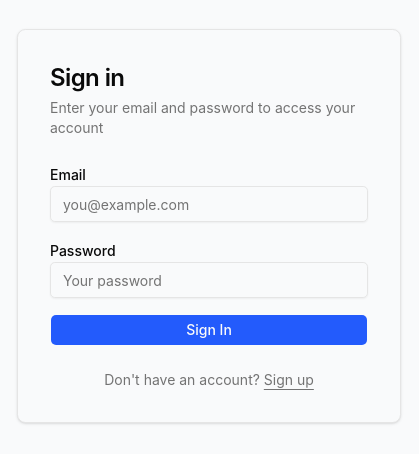
it: LoginPage › shows field-level email error on 400 with email validation error
Type "bad" into the field labelled "Email". click: [209, 204]
box: [50, 186, 368, 222]
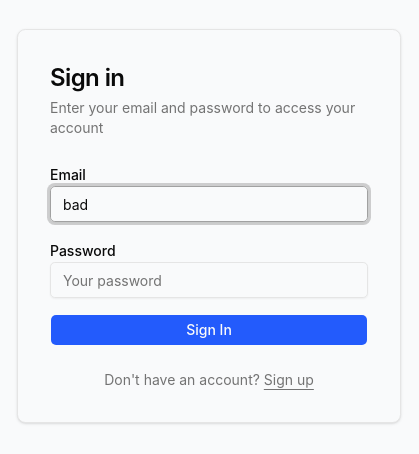
Type "pass" into the password field labelled "Password". click: [209, 280]
box: [50, 262, 368, 298]
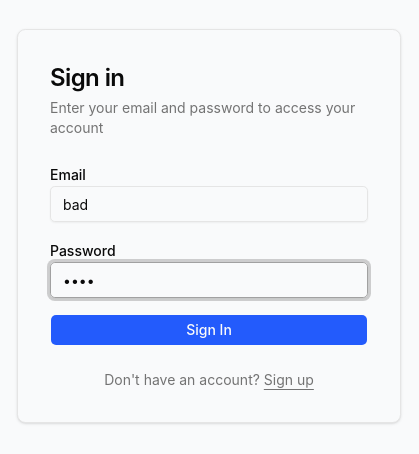
Click the button "Sign In". click: [209, 330]
box: [50, 314, 368, 346]
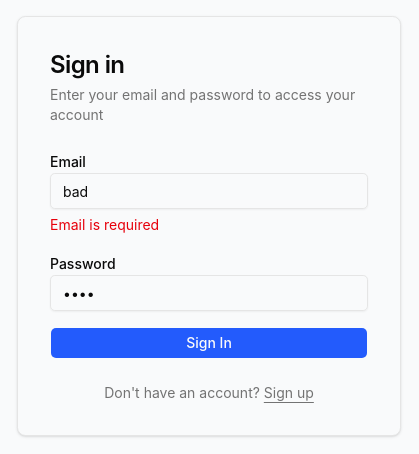
expect the message reads "Email is required": met, box [50, 216, 159, 233]
